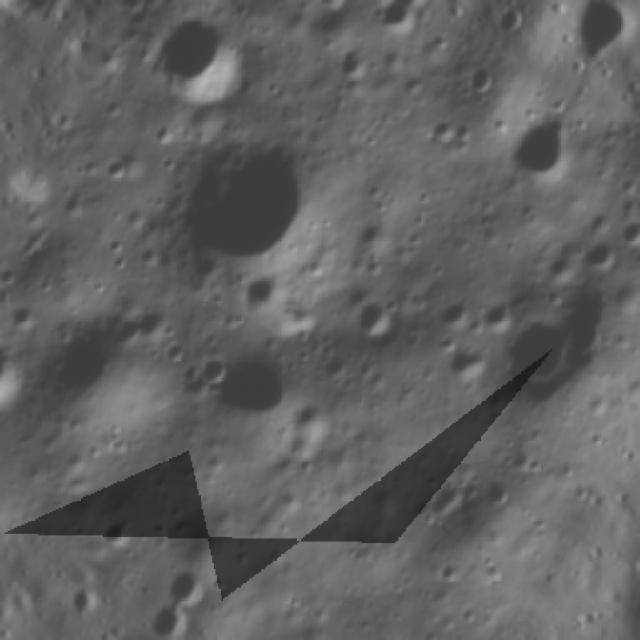crater: (148, 104, 366, 321), (24, 271, 202, 458), (477, 290, 605, 418), (137, 0, 266, 123), (206, 327, 320, 441), (501, 98, 594, 191), (0, 313, 45, 450), (152, 543, 223, 617), (356, 0, 421, 54), (0, 498, 26, 532)
